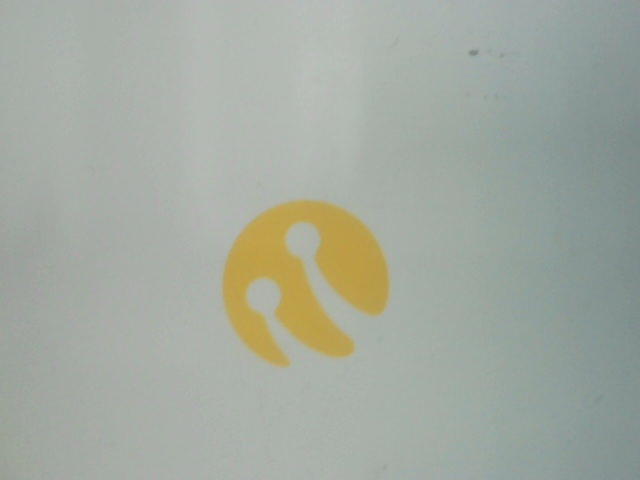AV_H3600Yellow: (204, 195, 396, 370)
